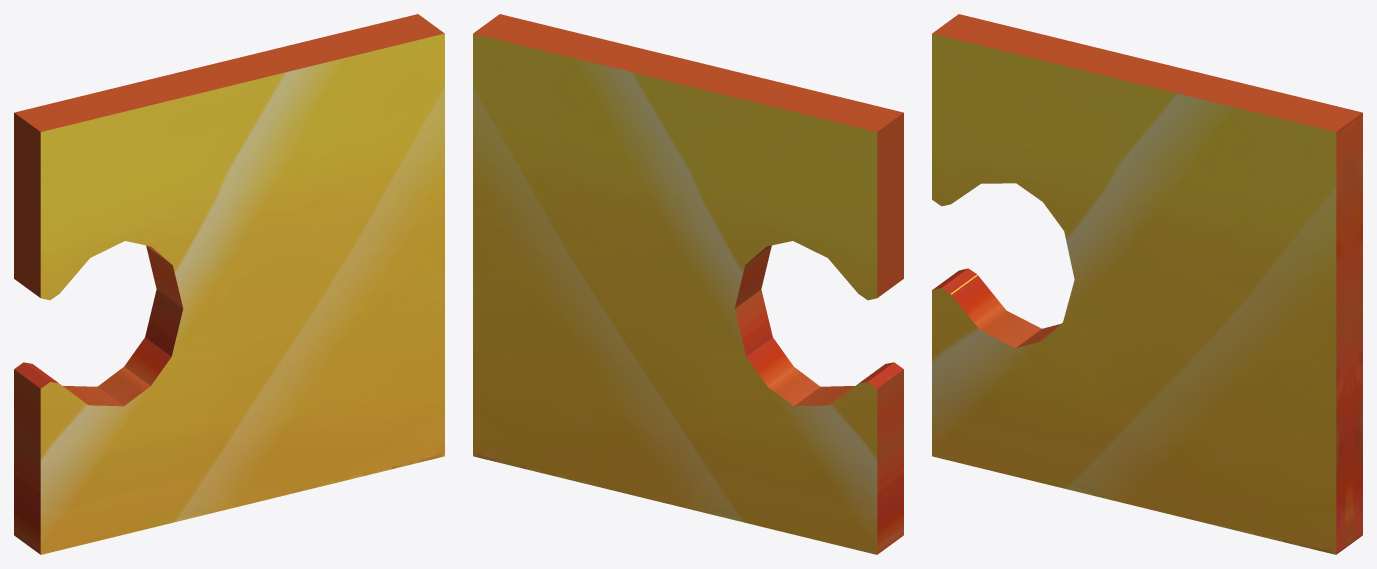
Rendered from suipian2.FBX.
The picture shows the model from 3 angles, left to right: view 1: azimuth 30°, elevation 25°; view 2: azimuth 150°, elevation 25°; view 3: azimuth 330°, elevation 25°; orthographic projection.
Visible parts, largest first — view 1: suipian2; view 2: suipian2; view 3: suipian2.
Boxes of the visible parts, <box> form: suipian2: <box>14,14,444,554</box>; suipian2: <box>473,14,903,554</box>; suipian2: <box>932,14,1362,554</box>.
Size of the model in its own units: 315 by 315 by 36.02.
Materials: 1 (1 with a texture image).
